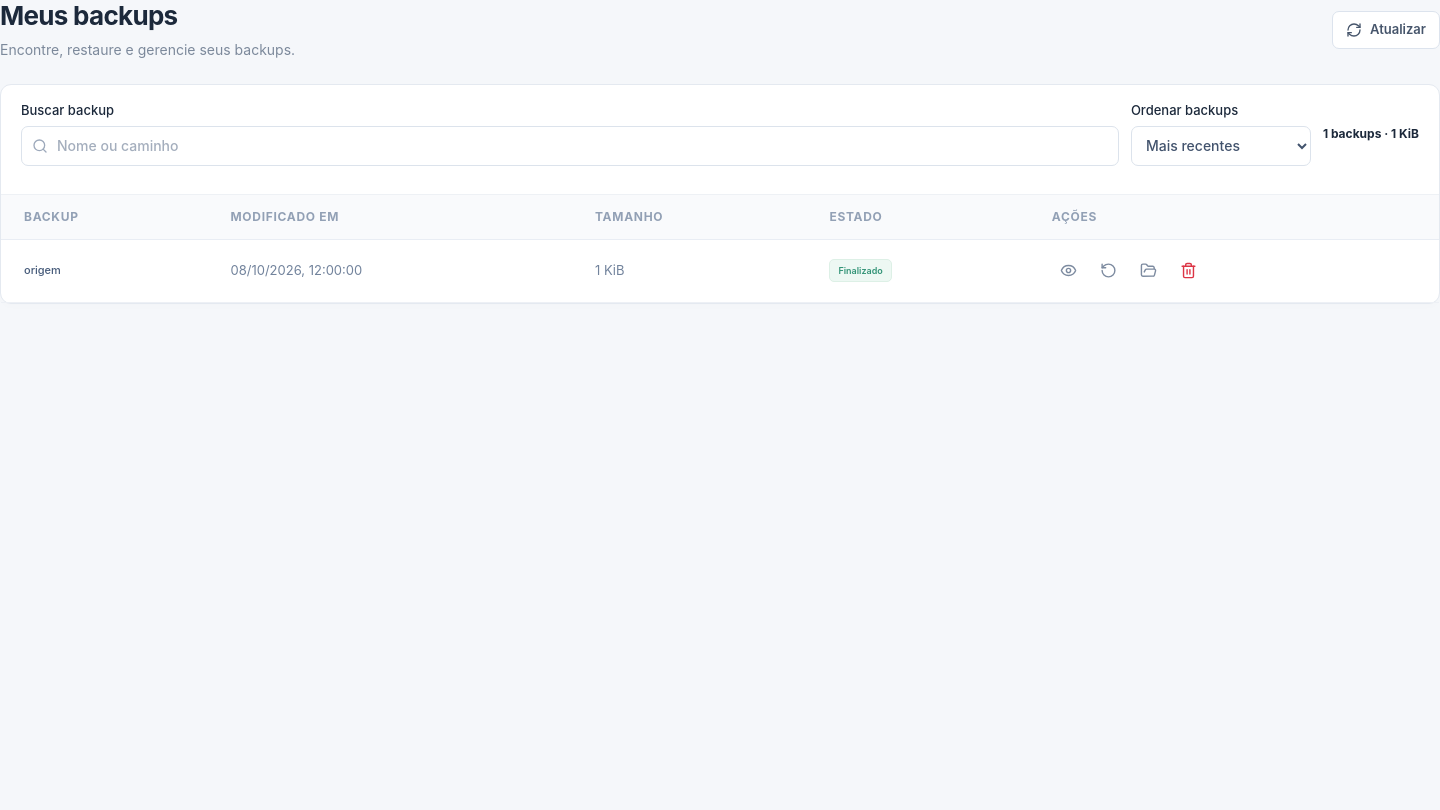
Test case: gestão dos backups › mantém a confirmação aberta e mostra a causa quando a API bloqueia a exclusão
Step 1. Click the button named "Excluir origem" → point(1189, 271), box [1172,254,1206,288]
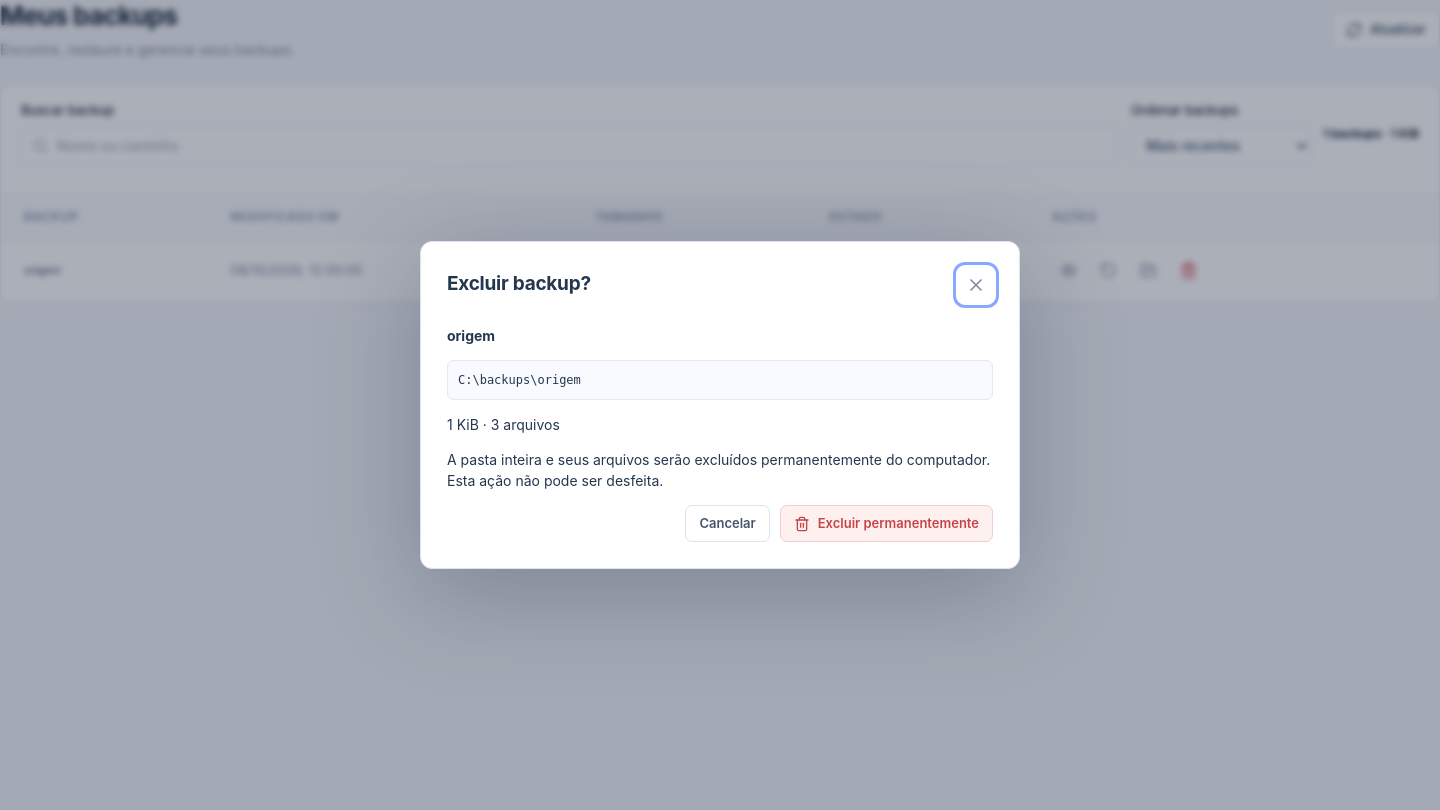
Step 2. Click the button "Excluir permanentemente" → point(886, 524), box [780,505,993,542]
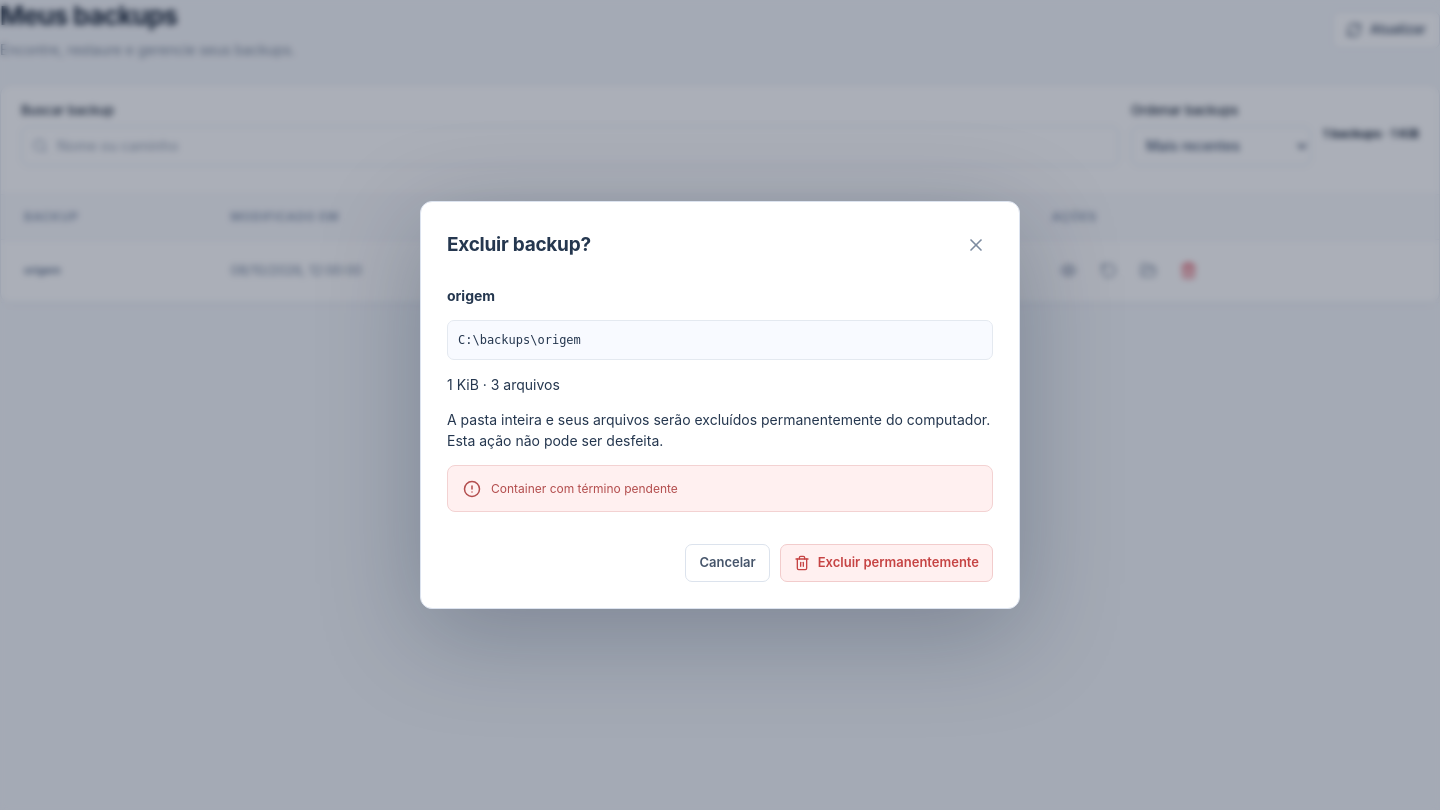
Expected: the message reads "Container com término pendente", [491,481,678,496]
